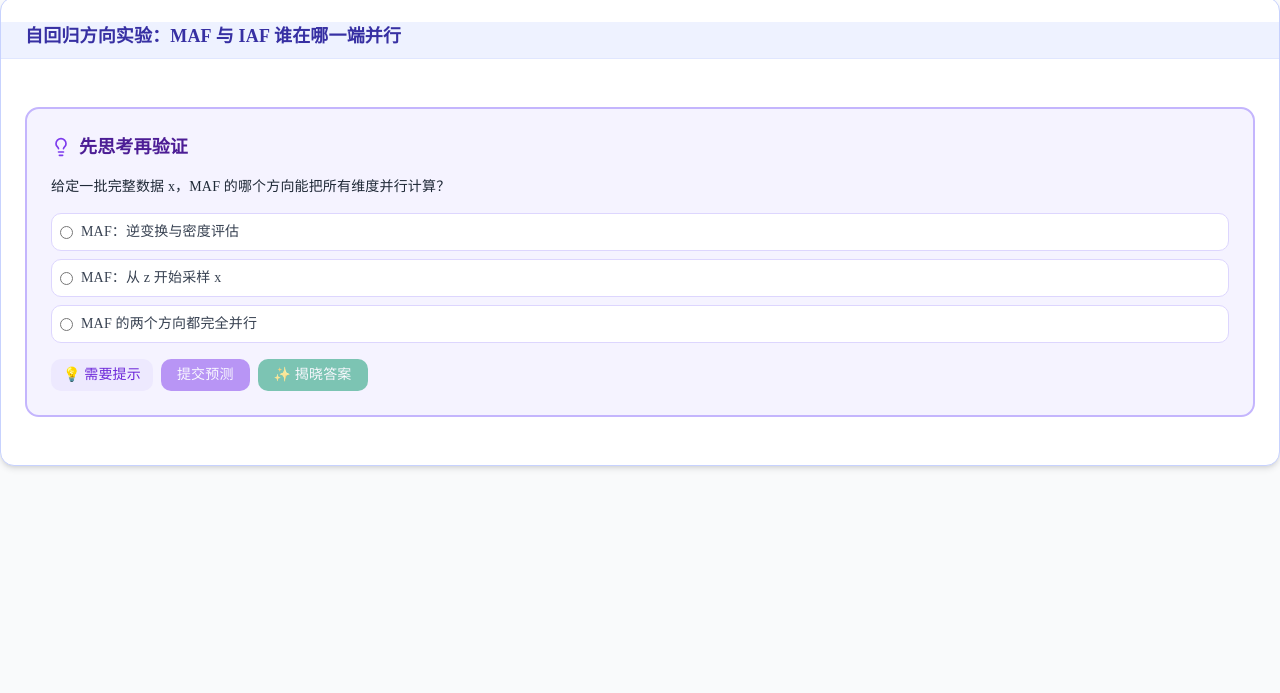
Test: chapter 15 normalizing flows teaching-ready loop › gates the MAF/IAF direction experiment and exposes the dependency reversal
Click the radio button labelled "MAF：逆变换与密度评估": x=66, y=232 left=60, top=226, right=73, bottom=238
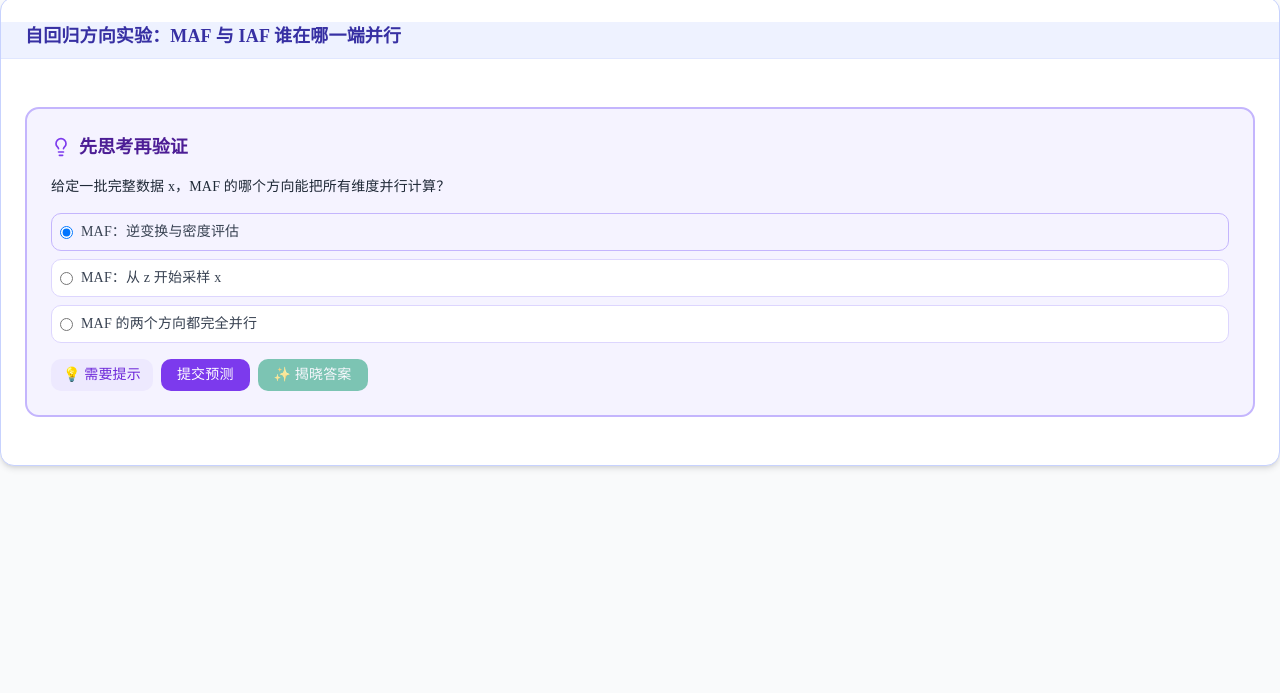
Click the button "提交预测": x=205, y=375 left=161, top=359, right=250, bottom=391
(page scrolled)
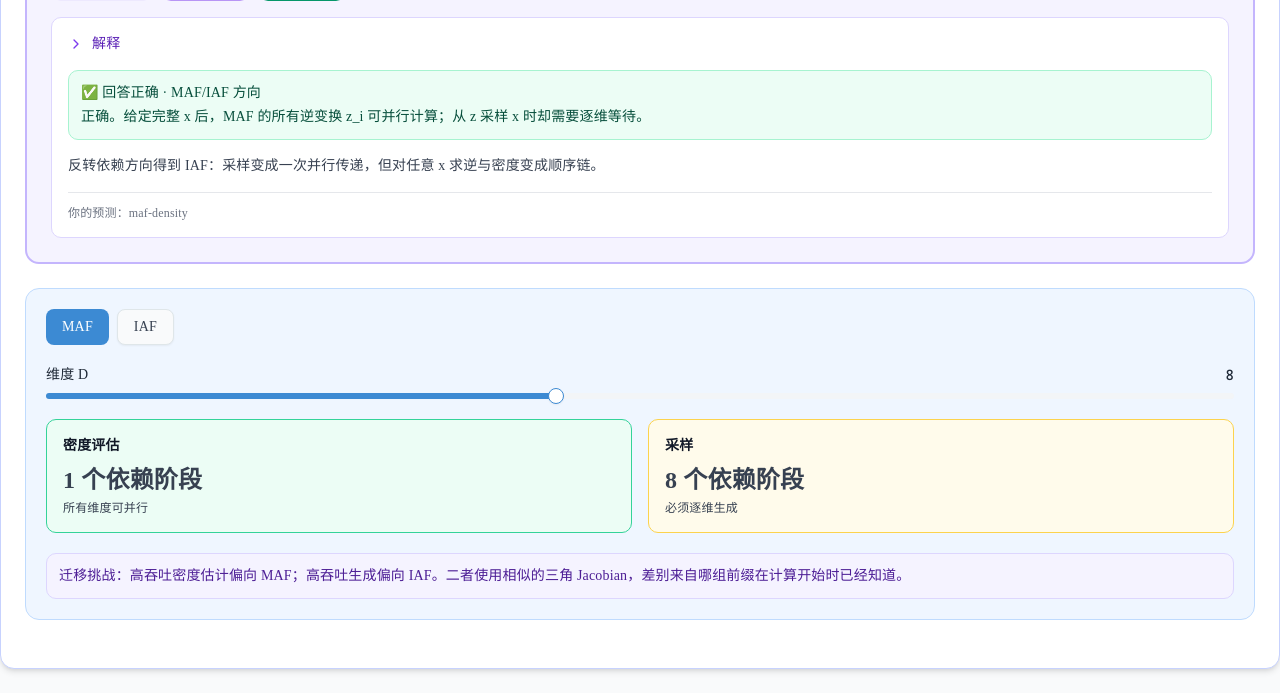
Result: the element named "MAF 与 IAF 方向实验区" is shown at left=25, top=288, right=1255, bottom=620
Result: the element with test id "evaluation-feedback" shows "回答正确" at left=81, top=85, right=159, bottom=100
Result: the text "1 个依赖阶段" is shown at left=63, top=467, right=202, bottom=493
